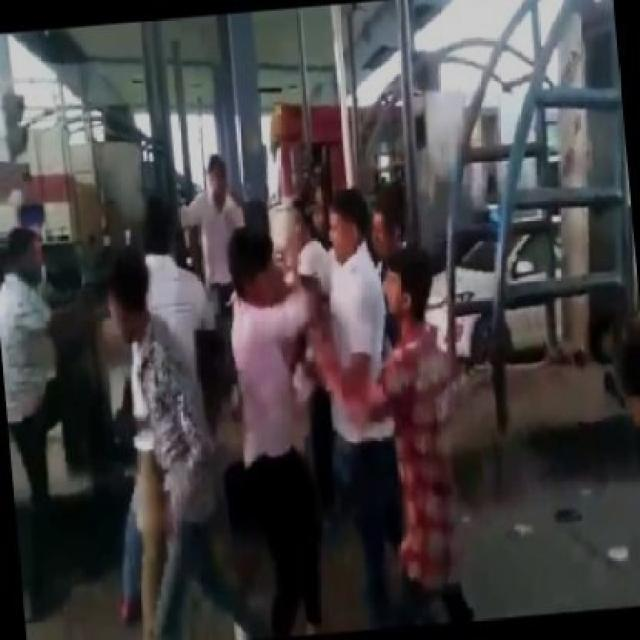fight: (217, 195, 478, 640)
non-fight: (91, 247, 212, 640), (296, 196, 403, 637), (0, 230, 86, 563)
